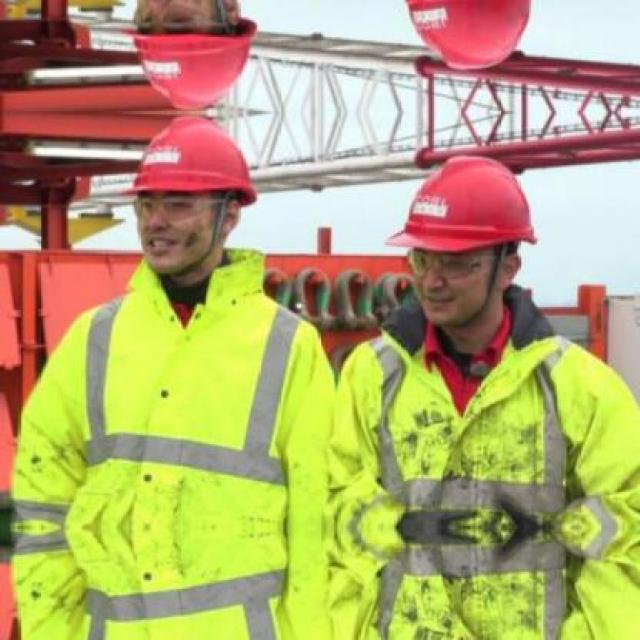helmet: (382, 144, 548, 336), (102, 115, 270, 281), (101, 0, 272, 111), (382, 0, 549, 82)
